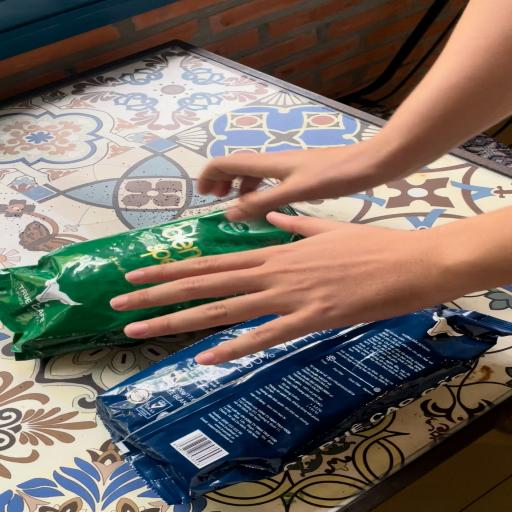cafe_hat: (96, 306, 512, 505)
cafe_xay: (0, 210, 301, 360)
